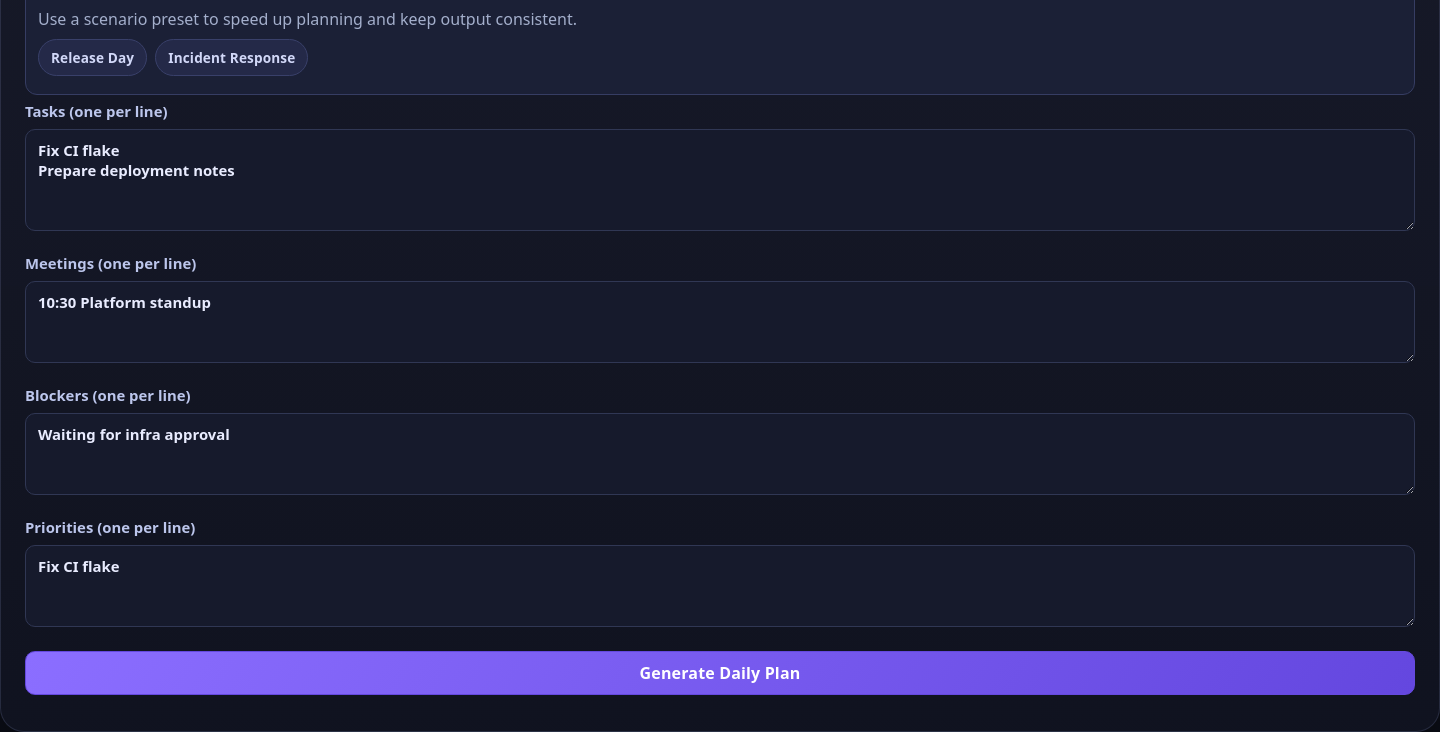
Test: visual baseline › today result-state baseline snapshot
(page scrolled)
Click the button "Generate Daily Plan" at (720, 673), box top-left (25, 651), bottom-right (1415, 695)
(page scrolled)
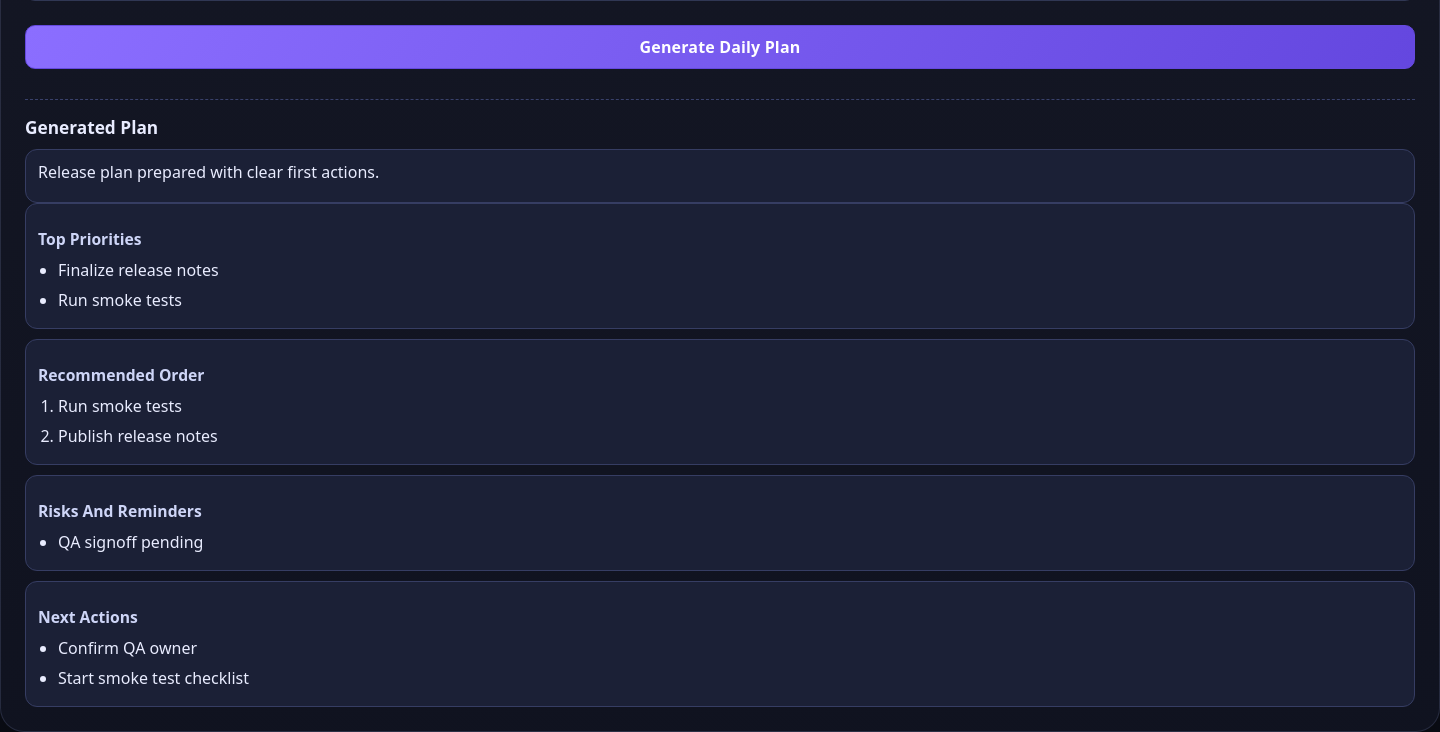
Result: the heading "Generated Plan" is shown at top-left (25, 116), bottom-right (158, 139)
Result: the element "Generated Plan" is shown
